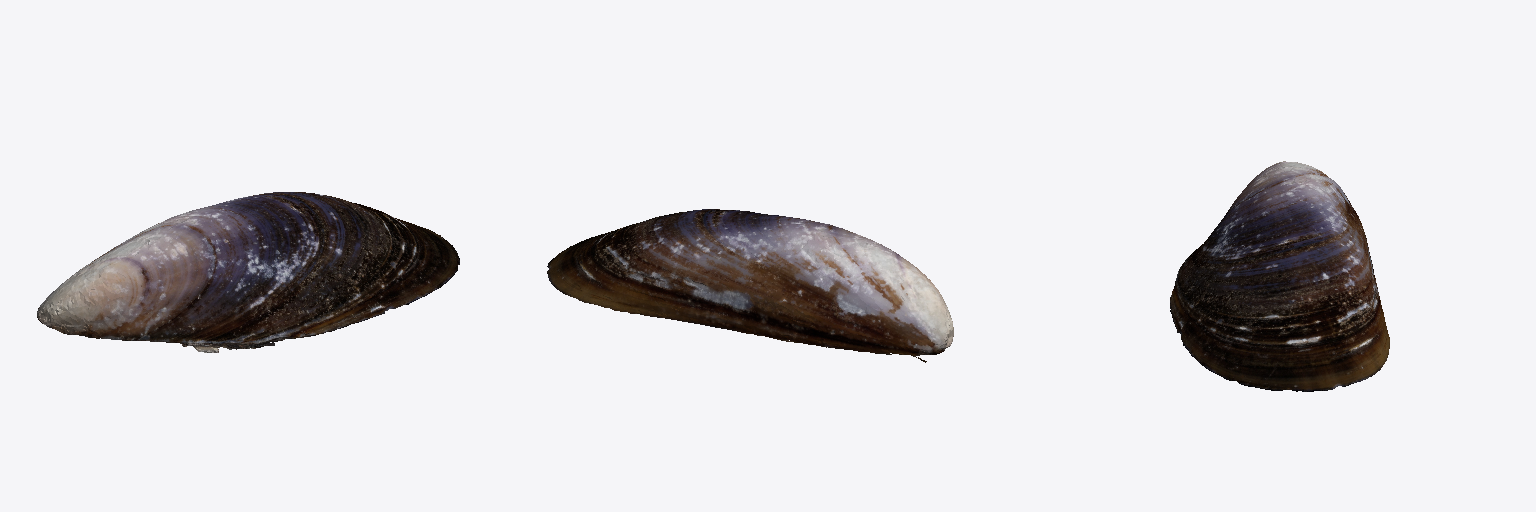
3 views of the same model, side by side, from view 1: azimuth 30°, elevation 25°; view 2: azimuth 150°, elevation 25°; view 3: azimuth 270°, elevation 25° (orthographic).
Visible parts, largest first — view 1: Obj3d66_[number redacted]_32_844; view 2: Obj3d66_[number redacted]_32_844; view 3: Obj3d66_[number redacted]_32_844.
Part boxes in pixels (x1,y1,x2,y2): Obj3d66_[number redacted]_32_844: (37,192,459,352); Obj3d66_[number redacted]_32_844: (547,209,953,362); Obj3d66_[number redacted]_32_844: (1170,161,1389,391).
Bounding box in the file's own units: 46.04 × 10.18 × 22.16.
1 materials, 1 textured.